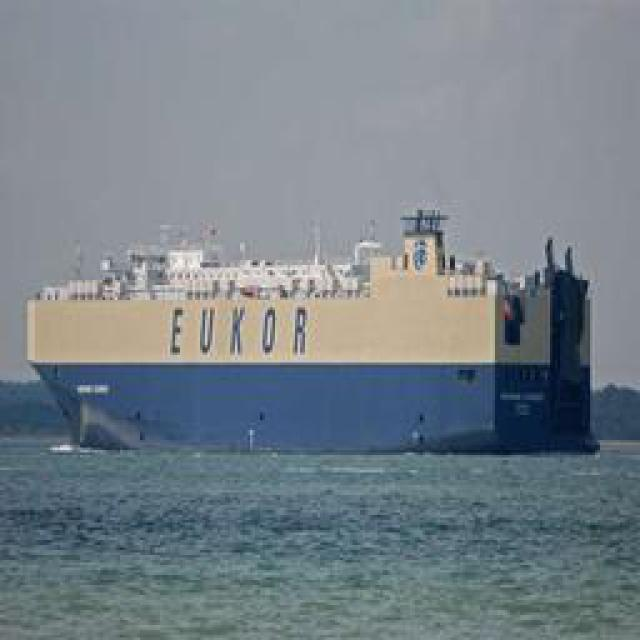Ship: (34, 200, 589, 455)
